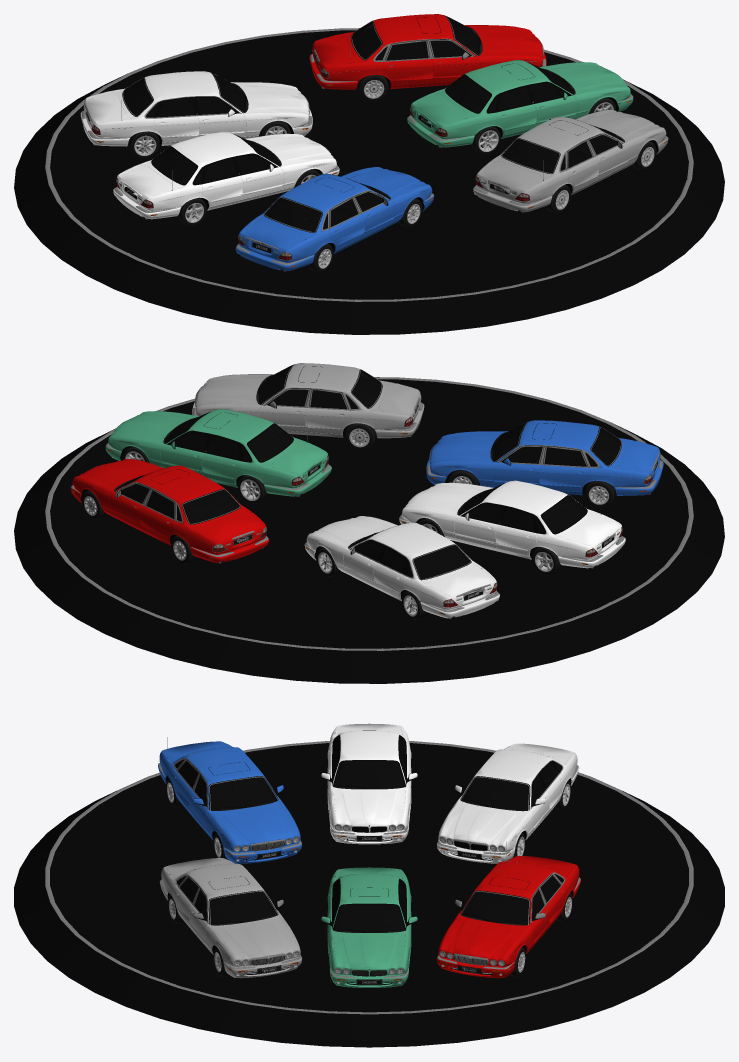
File: jaguar-daimler-xj.glb
The picture shows the model from 3 angles, top to bottom: view 1: azimuth 30°, elevation 25°; view 2: azimuth 150°, elevation 25°; view 3: azimuth 270°, elevation 25°; orthographic projection.
Visible parts, largest first — view 1: Base_66, XJ8_Body_33, SuperV8_Body_44, XJSport_Body_0, XJR_Body_22, XJSovereign_Body_11, DaimlerV8_Body_55, SuperV8_Interior_49, XJ8_Interior_38, XJR_Interior_27, XJSport_Interior_5, XJSovereign_Interior_16 (+5 smaller); view 2: Base_66, XJSovereign_Body_11, XJSport_Body_0, XJR_Body_22, DaimlerV8_Body_55, SuperV8_Body_44, XJ8_Body_33, XJSovereign_Interior_16, DaimlerV8_Interior_60, XJSport_Interior_5, XJR_Interior_27, SuperV8_Interior_49 (+5 smaller); view 3: Base_66, XJSovereign_Body_11, SuperV8_Body_44, DaimlerV8_Body_55, XJ8_Body_33, XJR_Body_22, XJSport_Body_0, SuperV8_Interior_49, XJSovereign_Interior_16, XJ8_Interior_38, DaimlerV8_Interior_60, XJR_Interior_27 (+1 smaller).
Boxes of the visible parts, bbox=[...] form: Base_66: bbox=[14, 28, 724, 334]; XJ8_Body_33: bbox=[80, 71, 312, 146]; SuperV8_Body_44: bbox=[309, 14, 546, 89]; XJSport_Body_0: bbox=[113, 131, 339, 219]; XJR_Body_22: bbox=[407, 60, 633, 147]; XJSovereign_Body_11: bbox=[235, 167, 434, 272]; DaimlerV8_Body_55: bbox=[473, 110, 668, 213]; SuperV8_Interior_49: bbox=[353, 17, 479, 61]; XJ8_Interior_38: bbox=[124, 74, 245, 118]; XJR_Interior_27: bbox=[447, 69, 572, 112]; XJSport_Interior_5: bbox=[153, 140, 278, 183]; XJSovereign_Interior_16: bbox=[265, 189, 387, 231]; Base_66: bbox=[14, 377, 724, 683]; XJSovereign_Body_11: bbox=[426, 420, 663, 495]; XJSport_Body_0: bbox=[399, 480, 625, 568]; XJR_Body_22: bbox=[105, 409, 331, 496]; DaimlerV8_Body_55: bbox=[192, 363, 424, 438]; SuperV8_Body_44: bbox=[70, 459, 269, 563]; XJ8_Body_33: bbox=[304, 516, 499, 619]; XJSovereign_Interior_16: bbox=[493, 423, 619, 467]; DaimlerV8_Interior_60: bbox=[259, 366, 380, 408]; XJSport_Interior_5: bbox=[460, 486, 585, 532]; XJR_Interior_27: bbox=[166, 414, 291, 461]; SuperV8_Interior_49: bbox=[120, 481, 238, 523]; Base_66: bbox=[14, 741, 724, 1047]; XJSovereign_Body_11: bbox=[158, 737, 301, 863]; SuperV8_Body_44: bbox=[436, 842, 580, 978]; DaimlerV8_Body_55: bbox=[159, 858, 302, 978]; XJ8_Body_33: bbox=[437, 743, 579, 863]; XJR_Body_22: bbox=[321, 867, 417, 987]; XJSport_Body_0: bbox=[321, 723, 417, 844]; SuperV8_Interior_49: bbox=[462, 874, 563, 924]; XJSovereign_Interior_16: bbox=[175, 760, 276, 809]; XJ8_Interior_38: bbox=[462, 762, 561, 809]; DaimlerV8_Interior_60: bbox=[177, 877, 276, 924]; XJR_Interior_27: bbox=[332, 881, 406, 931].
Bounding box in the file's own units: 15.79 × 1.95 × 15.75.
Materials: 29 (11 with a texture image).
